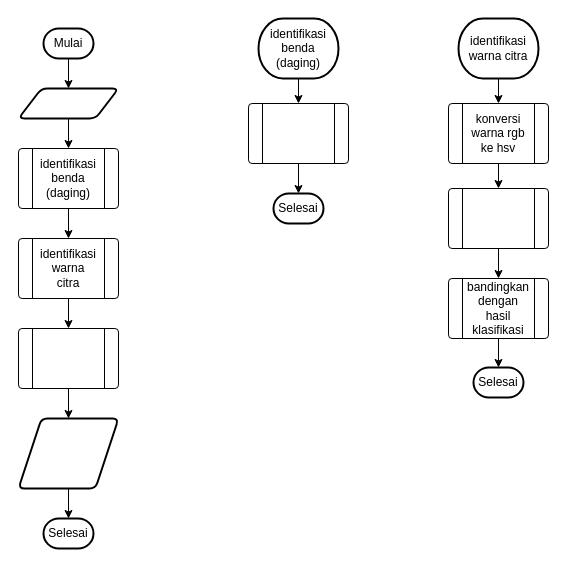
Image size: 566x566. Some labels were removed from this diagram. The centre of each missing label's shape, as x and y in pixels:
"ekstrak array warna hsv citra" goes at [498,218].
"HOG Descriptor" goes at [298,133].
"input citra" goes at [68,103].
"klasifikasi citra" goes at [68,358].
"output hasil (segar - agak segar - basi)" goes at [68,453].
